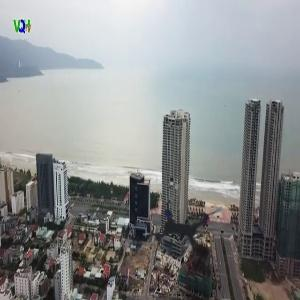drone: (122, 164, 247, 289)
